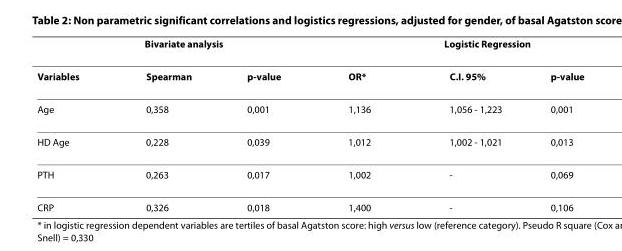table: (36, 36, 583, 212)
table column: (409, 36, 525, 212), (111, 36, 218, 212), (313, 36, 409, 212), (218, 36, 313, 212), (36, 36, 111, 212), (525, 36, 583, 212)
table column header: (36, 36, 583, 92)
table row: (36, 59, 583, 92), (36, 124, 583, 157), (36, 157, 583, 190), (36, 92, 583, 124), (36, 36, 583, 59), (36, 190, 583, 212)
table spanning cell: (36, 36, 313, 59), (313, 36, 583, 59)
